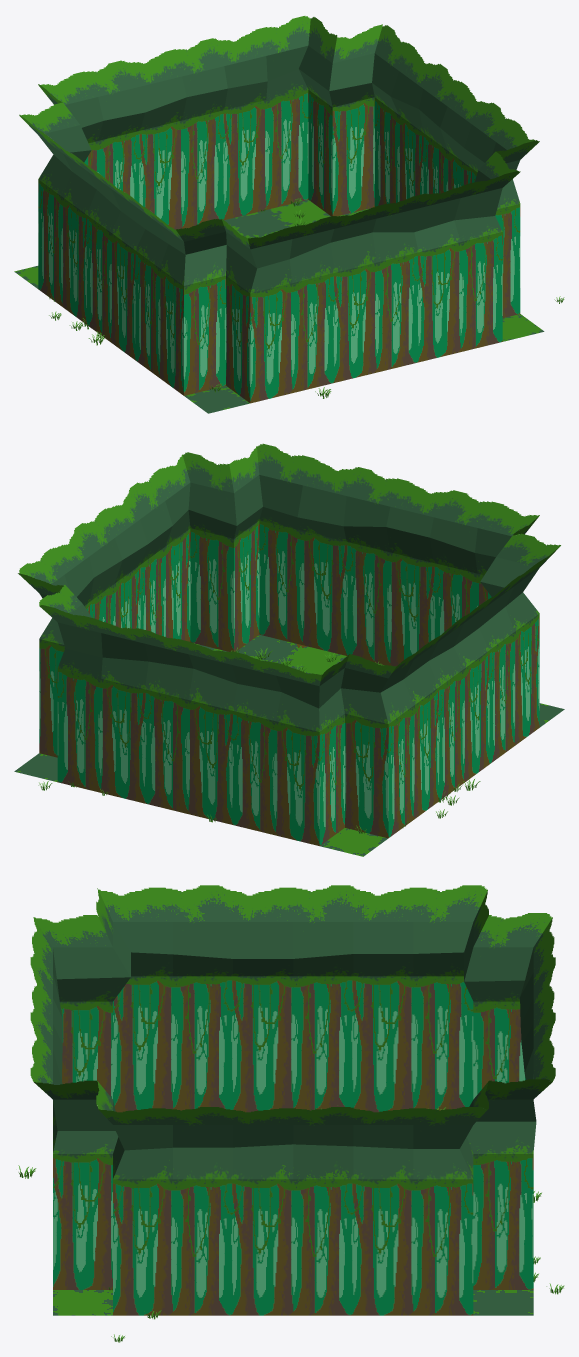
Rendered from savage_camp.glb.
3 renders of one model, top to bottom at view 1: azimuth 30°, elevation 25°; view 2: azimuth 150°, elevation 25°; view 3: azimuth 270°, elevation 25°, orthographic. The views are drawn at different scales.
Parts seen in each view (by area): view 1: лагерь аборигенов (босс).001, лагерь аборигенов (босс), трава.002; view 2: лагерь аборигенов (босс).001, лагерь аборигенов (босс), трава.002; view 3: лагерь аборигенов (босс).001, лагерь аборигенов (босс).
Part boxes in pixels (left/top/right/bottom): лагерь аборигенов (босс).001: left=19, top=16, right=539, bottom=403; лагерь аборигенов (босс): left=14, top=199, right=544, bottom=413; трава.002: left=47, top=197, right=564, bottom=398; лагерь аборигенов (босс).001: left=18, top=443, right=560, bottom=845; лагерь аборигенов (босс): left=14, top=634, right=564, bottom=856; трава.002: left=38, top=643, right=480, bottom=833; лагерь аборигенов (босс).001: left=30, top=885, right=555, bottom=1315; лагерь аборигенов (босс): left=53, top=1290, right=533, bottom=1315.
Size of the model in its own units: 19.27 by 8.16 by 18.34.
5 materials, 3 textured.
